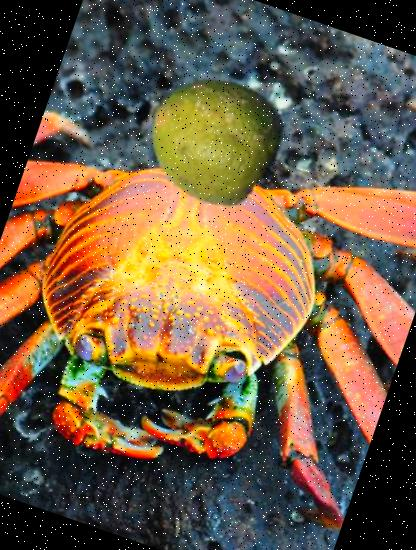Limes: (130, 51, 302, 224)
